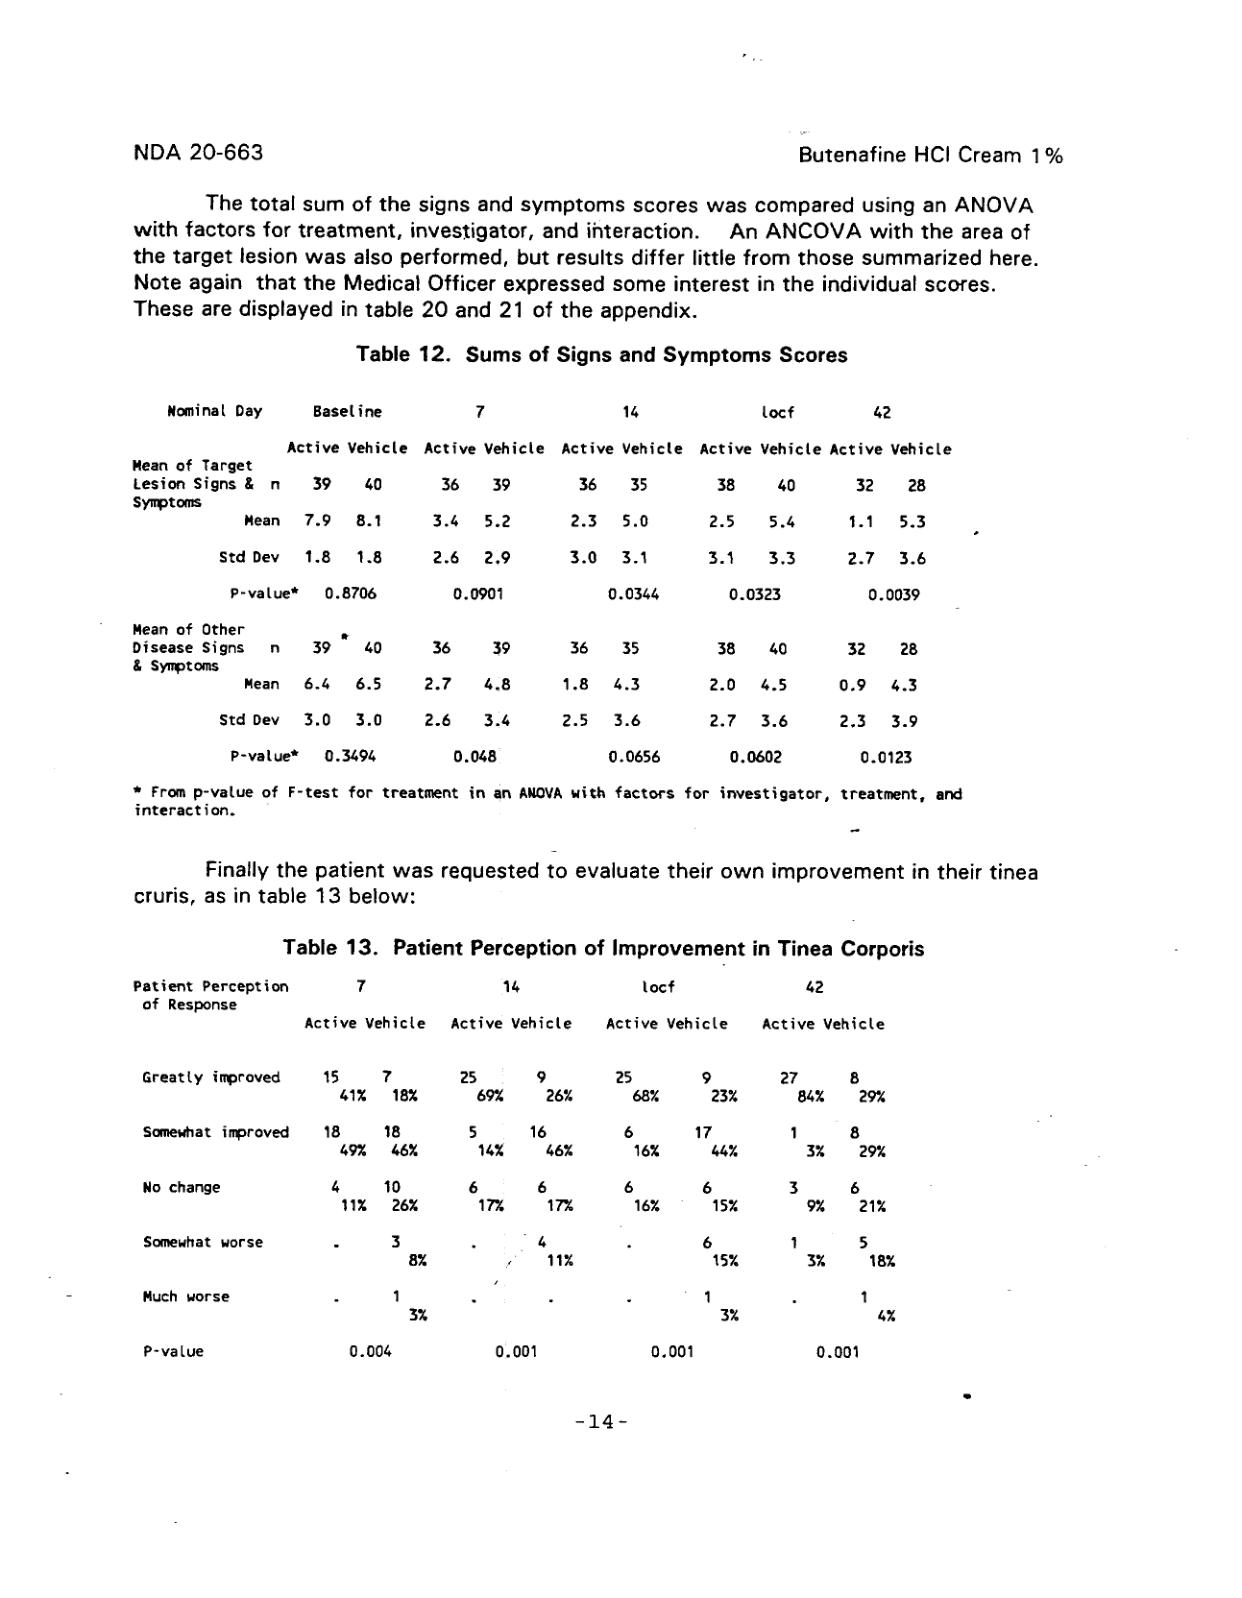nolines: (132, 399, 952, 767), (131, 975, 895, 1359)
